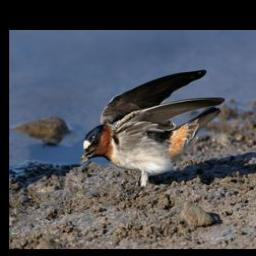Swallow: (81, 68, 226, 200)
